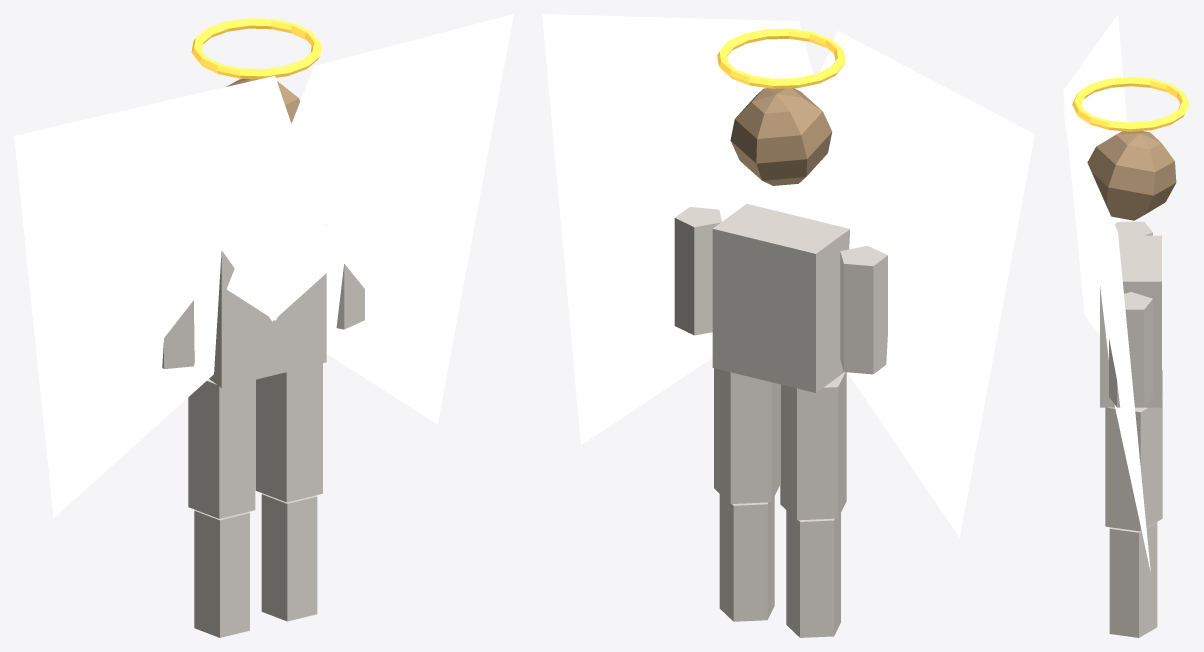
File: character-mode-b.glb
3 renders of one model, left to right at view 1: azimuth 30°, elevation 25°; view 2: azimuth 150°, elevation 25°; view 3: azimuth 270°, elevation 25°, orthographic. The views are drawn at different scales.
Visible parts, largest first — view 1: wing_r, wing_l, torso, upper_leg_l, upper_leg_r, lower_leg_r, lower_leg_l, halo, arm_l, arm_r; view 2: wing_l, wing_r, torso, upper_leg_l, upper_leg_r, head, lower_leg_r, lower_leg_l, arm_l, arm_r, halo; view 3: wing_l, wing_r, head, upper_leg_r, lower_leg_r, torso, arm_r, halo, arm_l.
Boxes of the visible parts, x1,y1,x2,y2 form: wing_r: (14,76,338,518); wing_l: (226,14,513,424); torso: (209,224,326,387); upper_leg_l: (188,379,255,518); upper_leg_r: (255,363,322,502); lower_leg_r: (261,493,317,621); lower_leg_l: (194,510,249,637); halo: (191,18,321,79); arm_l: (162,300,194,369); arm_r: (336,264,364,329); wing_l: (542,14,815,444); wing_r: (803,31,1034,537); torso: (712,204,849,392); upper_leg_l: (780,372,846,520); upper_leg_r: (714,368,779,503); head: (730,88,832,185); lower_leg_r: (719,494,774,621); lower_leg_l: (786,510,840,637); arm_l: (840,246,887,374); arm_r: (674,207,721,335); halo: (717,28,845,88); wing_l: (1063,108,1150,571); wing_r: (1063,14,1135,334); head: (1087,131,1176,220); upper_leg_r: (1105,399,1162,531); lower_leg_r: (1109,522,1157,637); torso: (1100,235,1161,407); arm_r: (1109,292,1152,407); halo: (1072,77,1189,131); arm_l: (1115,221,1152,235).
Size of the model in its own units: 1.33 by 1.46 by 0.3268.
